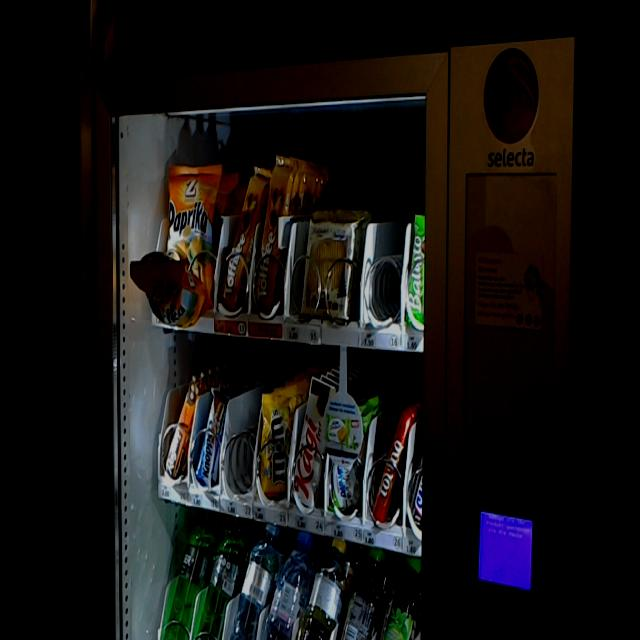balisto_muesli__37g__5000159418546: (403, 212, 426, 325)
berger_mailaenderli____7610404550006: (301, 212, 358, 316)
darwida_sandwich____7610032065170: (330, 394, 376, 511)
kagi___50__7610046000259: (289, 382, 335, 503)
knoppers_riegel____4035800488808: (192, 394, 228, 486)
mnms_gelb__45__40111445: (257, 391, 298, 496)
ragusa___50__76401121: (163, 376, 202, 474)
toffifee___33__4014400924275: (221, 164, 267, 315), (251, 156, 294, 317)
torino___46__76415272: (369, 411, 412, 522)
valser_classic__50__76404160: (163, 511, 220, 639), (194, 516, 249, 640)
zweifel_paprika__90__7610095013002: (168, 164, 216, 313)
